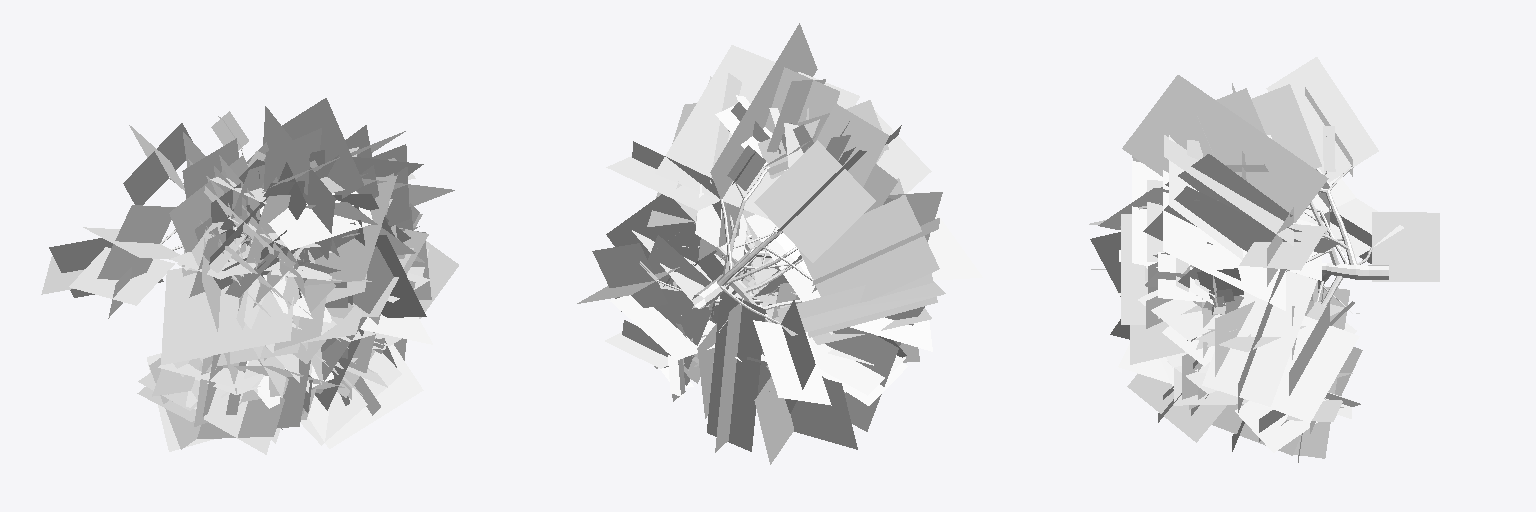
The picture shows the model from 3 angles: view 1: azimuth 30°, elevation 25°; view 2: azimuth 150°, elevation 25°; view 3: azimuth 270°, elevation 25°; orthographic projection.
Parts seen in each view (by area): view 1: billborad275, billborad407, billborad402, billborad157, billborad316, billborad411, billborad286, billborad400, billborad358, billborad171, billborad394, billborad170 (+28 smaller); view 2: billborad402, billborad400, billborad406, billborad272, trucks, billborad407, billborad350, billborad252, billborad312, billborad413, billborad244, billborad398 (+28 smaller); view 3: billborad407, billborad313, billborad401, billborad412, billborad310, billborad363, billborad311, billborad399, trucks, billborad317, billborad307, billborad178 (+26 smaller).
Part boxes in pixels (left/top/right/bottom): billborad275: left=161, top=268, right=293, bottom=364; billborad407: left=282, top=98, right=363, bottom=198; billborad402: left=97, top=205, right=175, bottom=279; billborad157: left=304, top=175, right=397, bottom=285; billborad316: left=308, top=344, right=423, bottom=448; billborad411: left=69, top=247, right=174, bottom=305; billborad286: left=259, top=189, right=372, bottom=250; billborad400: left=123, top=123, right=192, bottom=204; billborad358: left=300, top=351, right=401, bottom=445; billborad171: left=322, top=246, right=393, bottom=380; billborad394: left=169, top=156, right=248, bottom=252; billborad170: left=263, top=275, right=432, bottom=344; billborad402: left=799, top=195, right=939, bottom=302; billborad400: left=754, top=140, right=875, bottom=262; billborad406: left=655, top=45, right=859, bottom=219; billborad272: left=707, top=292, right=765, bottom=451; trucks: left=657, top=166, right=813, bottom=341; billborad407: left=710, top=23, right=817, bottom=207; billborad350: left=648, top=235, right=712, bottom=368; billborad252: left=747, top=357, right=857, bottom=449; billborad312: left=606, top=194, right=716, bottom=262; billborad413: left=753, top=320, right=831, bottom=405; billborad244: left=822, top=327, right=898, bottom=431; billborad398: left=816, top=103, right=888, bottom=186; billborad407: left=1122, top=75, right=1328, bottom=222; billborad313: left=1202, top=271, right=1317, bottom=406; billborad401: left=1266, top=57, right=1378, bottom=182; billborad412: left=1372, top=212, right=1439, bottom=281; billborad310: left=1163, top=170, right=1285, bottom=310; billborad363: left=1257, top=316, right=1359, bottom=422; billborad311: left=1143, top=186, right=1300, bottom=269; billborad399: left=1251, top=84, right=1321, bottom=168; trucks: left=1286, top=166, right=1388, bottom=313; billborad317: left=1127, top=374, right=1226, bottom=442; billborad307: left=1160, top=154, right=1292, bottom=220; billborad178: left=1121, top=214, right=1158, bottom=324.
Bounding box in the file's own units: 32.35 × 32.35 × 29.68.